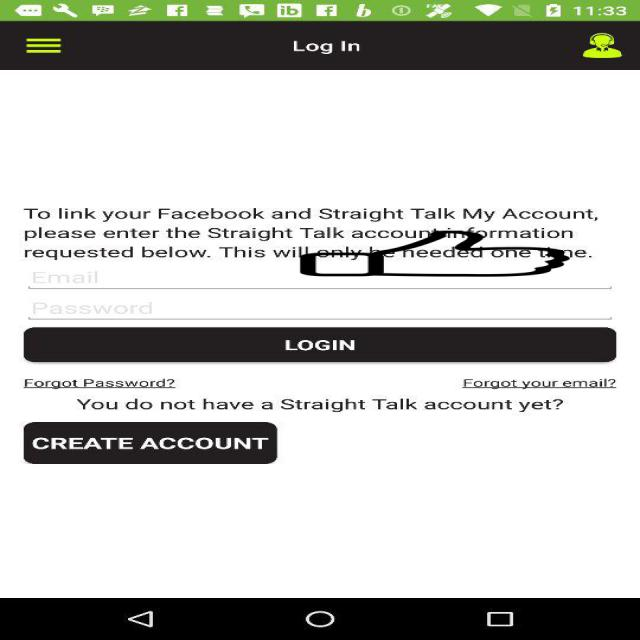privacy zuckering: (296, 230, 574, 276)
